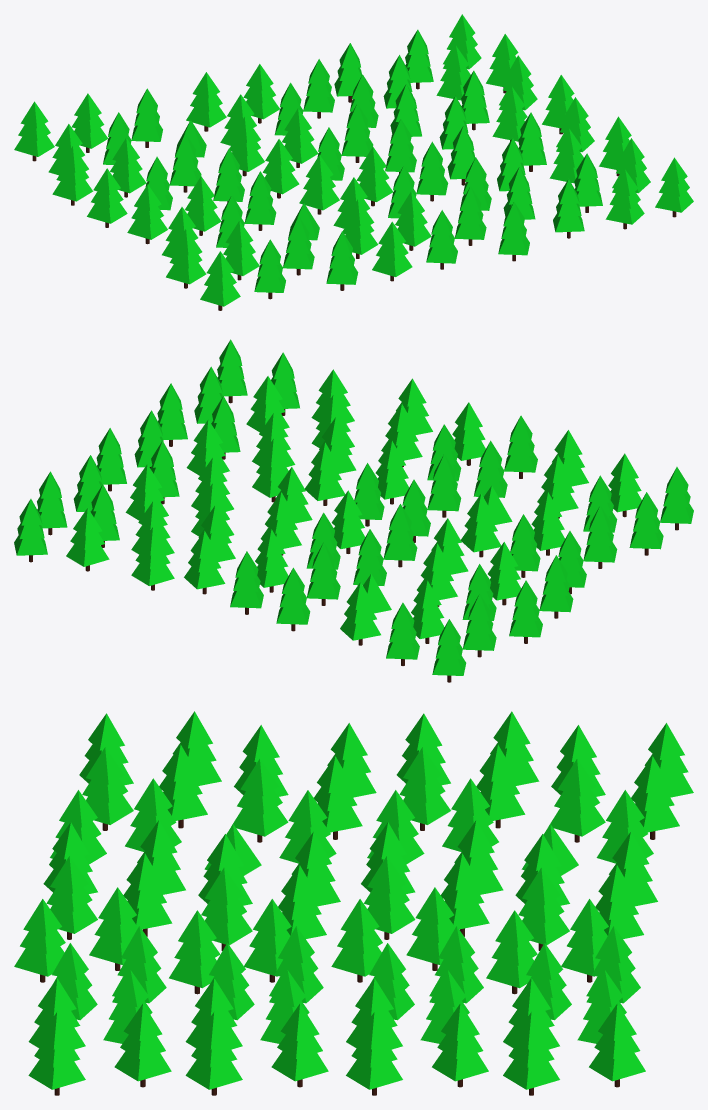
Rendered from Forest.obj.
3 views of the same model, one above another, from view 1: azimuth 30°, elevation 25°; view 2: azimuth 150°, elevation 25°; view 3: azimuth 270°, elevation 25° (orthographic). The views are drawn at different scales.
Visible parts, largest first — view 1: Box150, Box187, Box121, Box157, Box198, Box159, Box182, Box060, Box123, Box074, Box107, Box143 (+13 smaller); view 2: Box012, Box016, Box062, Box177, Box211, Box143, Box121, Box053, Box146, Box044, Box150, Box197 (+11 smaller); view 3: Box082, Box100, Box107, Box091, Box001, Box019, Box024, Box008, Box207, Box172, Box129, Box048 (+132 smaller).
Boxes of the visible parts, x1,y1,x2,y2 form: Box150: (52,180,93,201); Box187: (127,218,167,239); Box121: (372,255,412,276); Box157: (87,202,127,223); Box198: (200,285,240,306); Box159: (14,135,54,156); Box182: (166,263,206,284); Box060: (186,106,226,127); Box123: (299,189,339,210); Box074: (605,203,644,224); Box107: (655,191,693,212); Box143: (416,176,448,195); Box012: (131,563,174,585); Box016: (66,544,109,566); Box062: (184,566,225,589); Box177: (340,617,380,640); Box211: (461,529,501,552); Box143: (305,478,345,500); Box121: (504,452,537,472); Box053: (307,579,340,599); Box146: (386,639,419,659); Box044: (383,540,417,560); Box150: (509,617,542,637); Box197: (583,542,617,562); Box082: (185,1059,242,1089); Box100: (114,1051,171,1081); Box107: (28,1059,85,1089); Box091: (271,1051,328,1081); Box001: (503,1059,559,1089); Box019: (346,1059,402,1089); Box024: (432,1051,488,1081); Box008: (589,1051,645,1081); Box207: (233,806,288,836); Box172: (550,806,605,836); Box129: (14,946,64,976); Box048: (331,946,381,976).
Bounding box in the file's own units: 847966 × 101101 × 751553.
